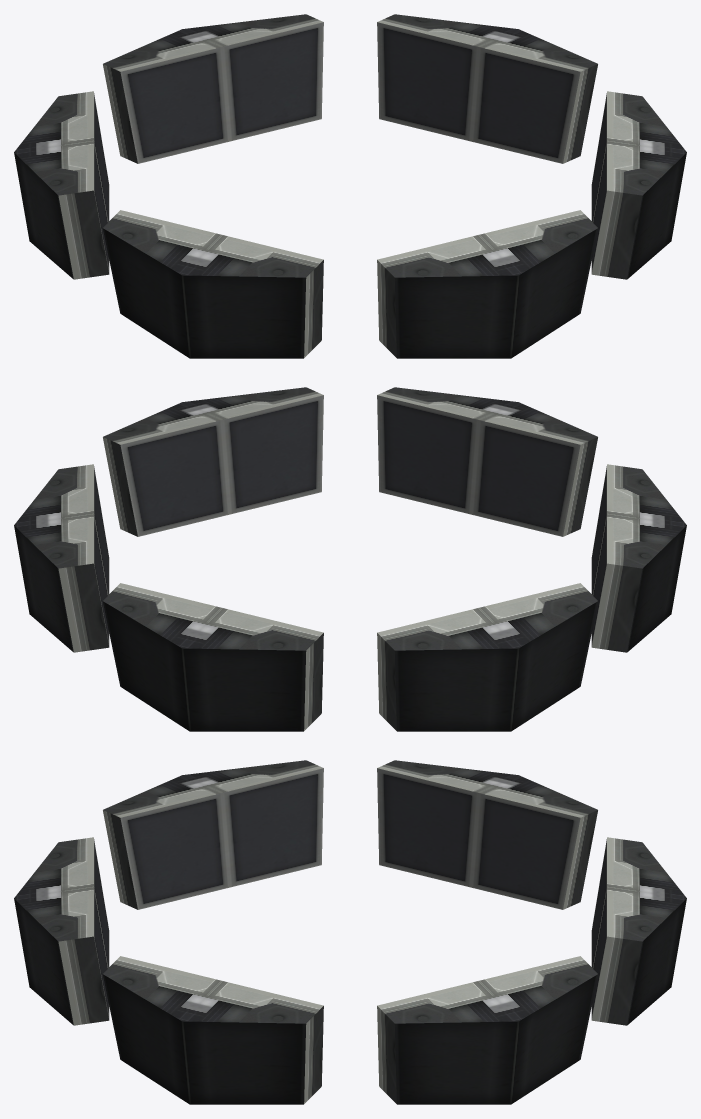
Rendered from TeamsBattle_Part01.fbx.
3 views of the same model, one above another, from view 1: azimuth 30°, elevation 25°; view 2: azimuth 150°, elevation 25°; view 3: azimuth 270°, elevation 25° (orthographic).
Visible parts, largest first — view 1: TeamsBattle_Part01; view 2: TeamsBattle_Part01; view 3: TeamsBattle_Part01.
Boxes of the visible parts, x1,y1,x2,y2 form: TeamsBattle_Part01: [14, 14, 686, 358]; TeamsBattle_Part01: [14, 387, 686, 731]; TeamsBattle_Part01: [14, 760, 686, 1104].
Size of the model in its own units: 0.795 by 0.1412 by 0.8583.
